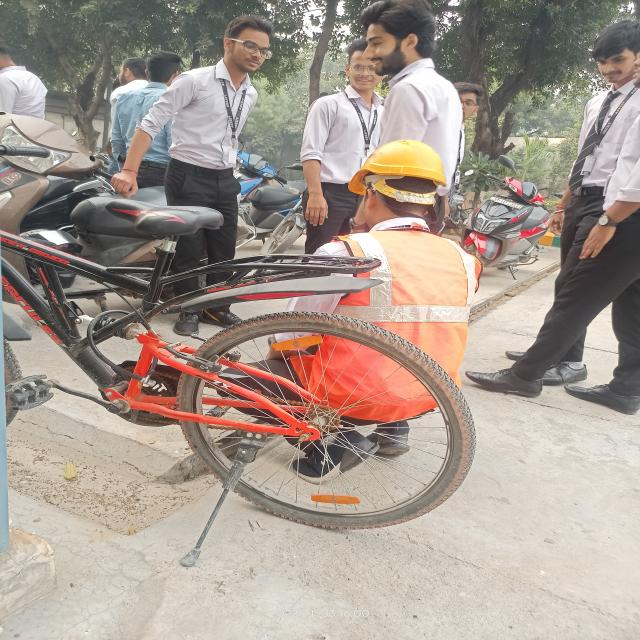safe: (285, 146, 468, 473)
unsafe: (564, 21, 640, 413), (172, 6, 278, 260), (362, 0, 464, 144), (299, 33, 386, 148), (114, 53, 189, 182)
